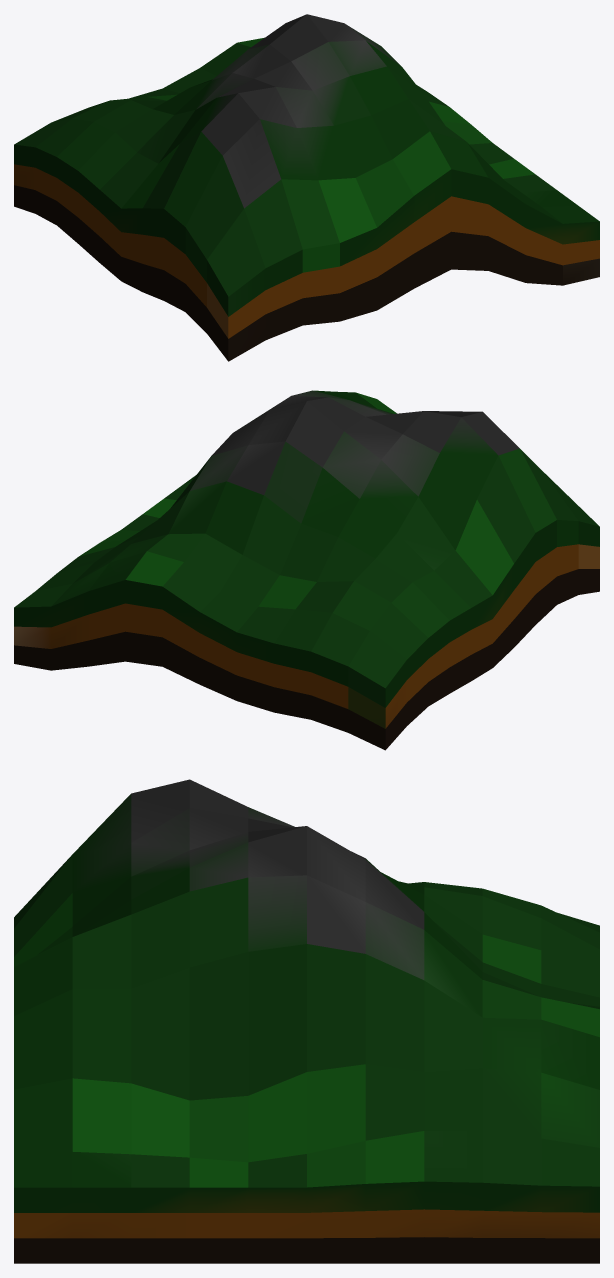
Rendered from SM_terrian_background.FBX.
3 renders of one model, top to bottom at view 1: azimuth 30°, elevation 25°; view 2: azimuth 150°, elevation 25°; view 3: azimuth 270°, elevation 25°, orthographic. The views are drawn at different scales.
Visible parts, largest first — view 1: terrian_background; view 2: terrian_background; view 3: terrian_background.
Boxes of the visible parts, x1=… form: terrian_background: x1=14, y1=14, x2=599, y2=361; terrian_background: x1=14, y1=390, x2=599, y2=750; terrian_background: x1=14, y1=779, x2=599, y2=1263.
Size of the model in its own units: 3500 by 2068 by 3500.
